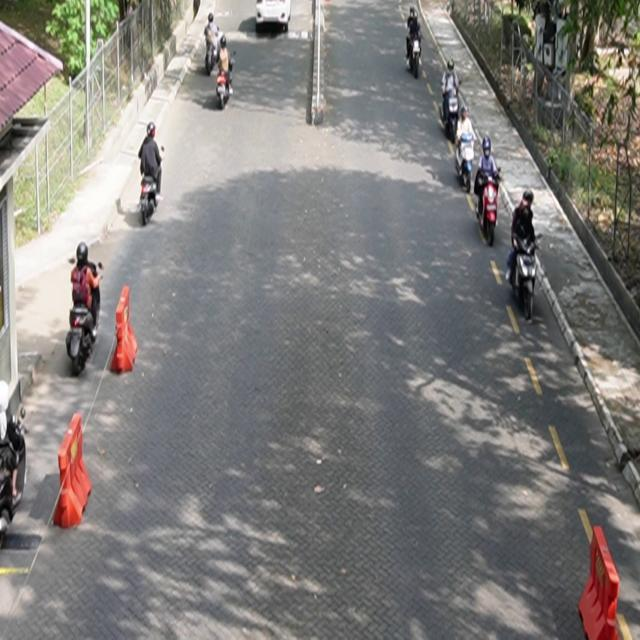car: (257, 1, 293, 34)
